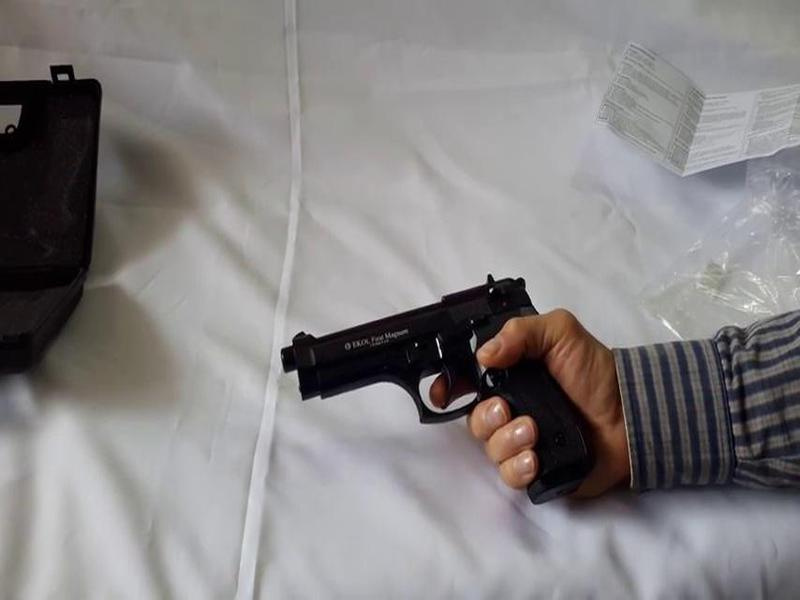Pistola: (237, 266, 611, 512)
